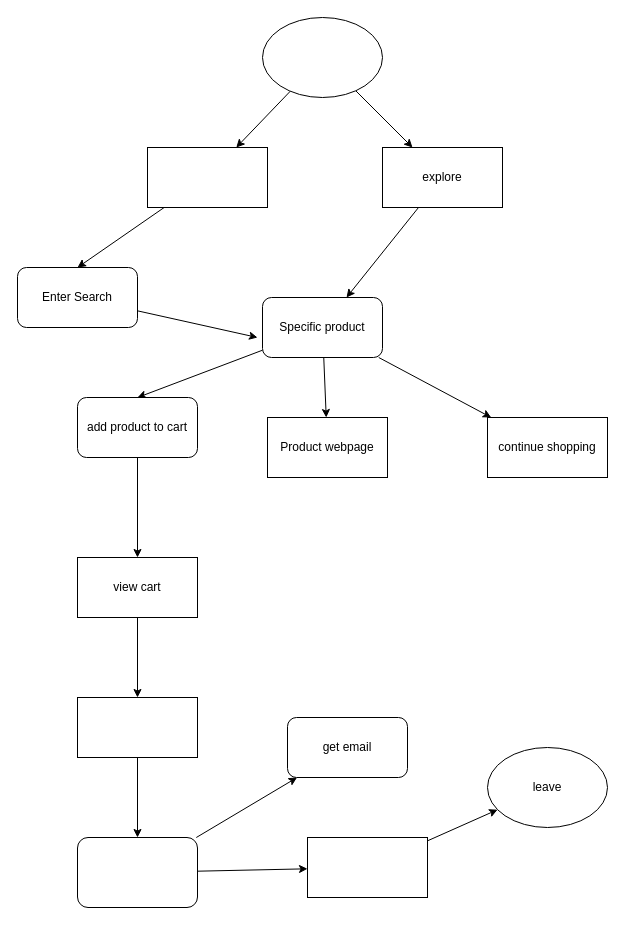
Image size: 625x925. Some labels were removed from this diagram. Here are the shapes that lost their labels. From the top down, the box of each, then its label:
(262, 16, 382, 98): home
(146, 146, 268, 208): search
(76, 696, 198, 758): view payment
(76, 836, 198, 908): payment input
(306, 836, 428, 898): confimation page
